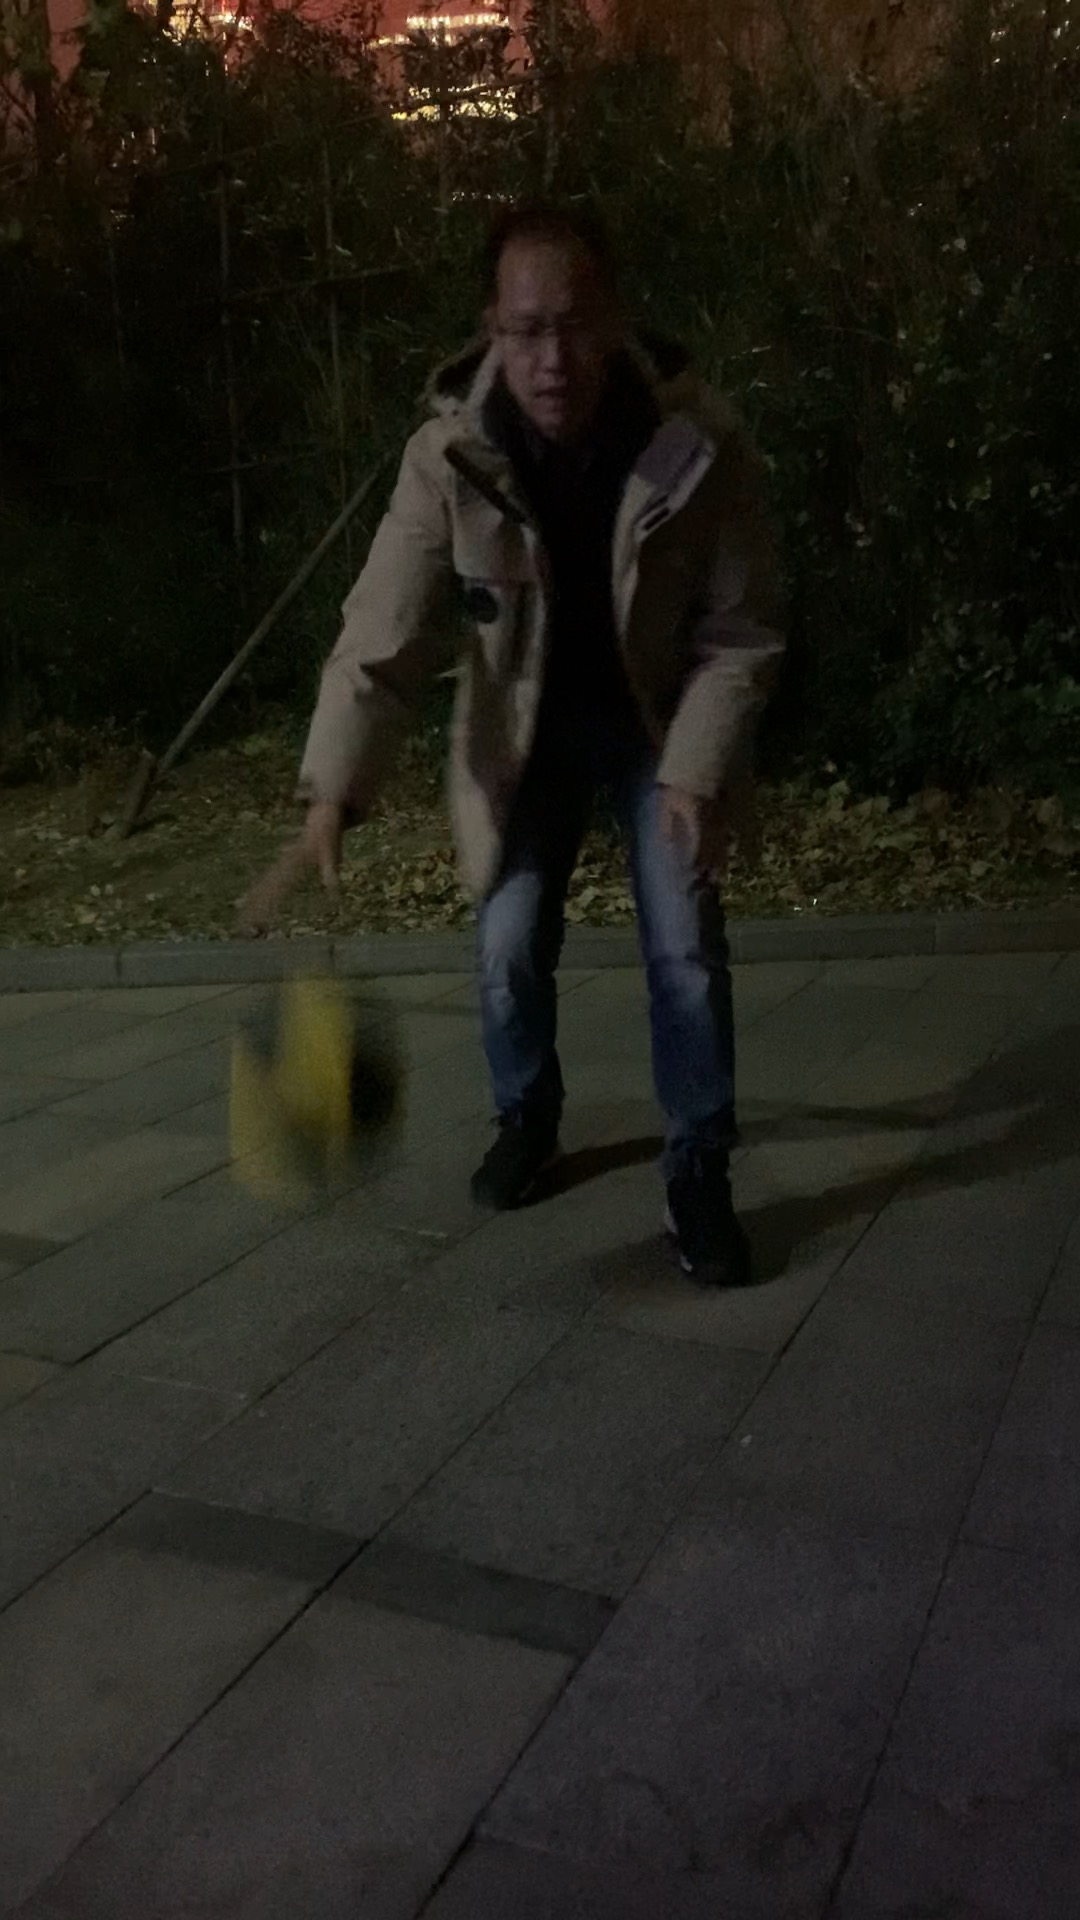ball: (229, 968, 407, 1163)
